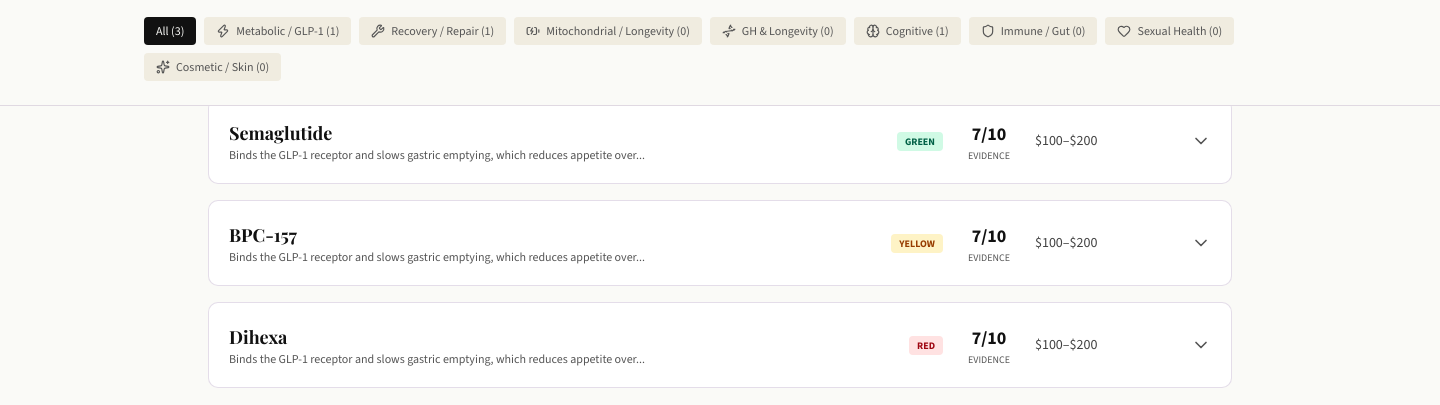
Test: PeptideLibraryList › filters by category
Click the button "Recovery / Repair (1)": (433, 31) left=359, top=17, right=506, bottom=45
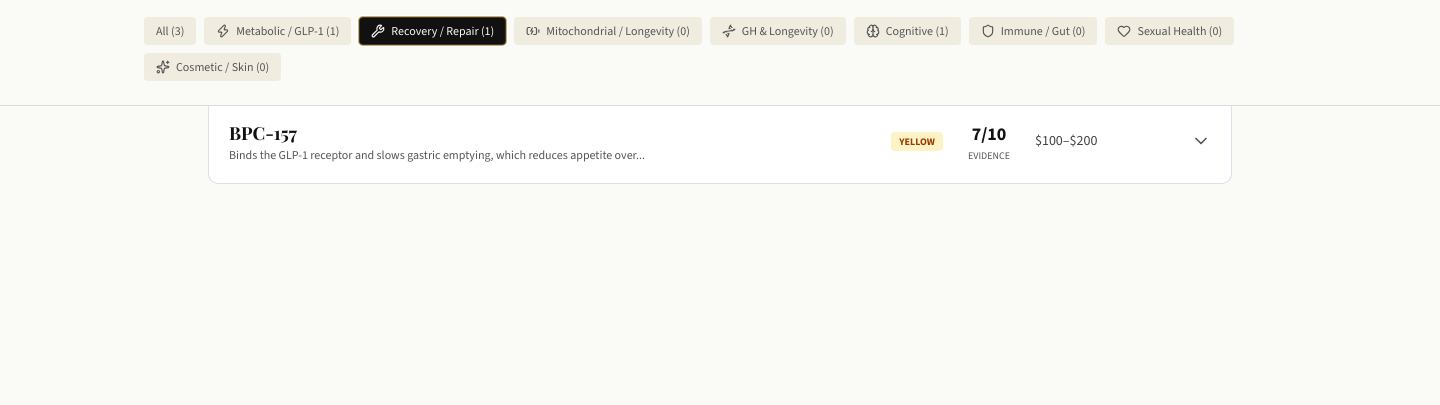
expect the headings read "BPC-157", in this order: met, box left=229, top=121, right=297, bottom=145
